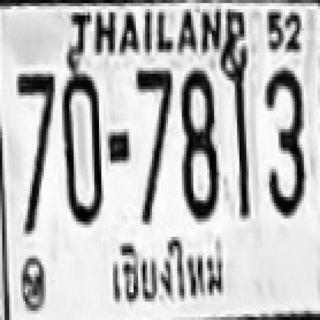N00: (60, 72, 101, 223)
N03: (262, 65, 304, 215)
N07: (16, 71, 53, 197), (134, 68, 170, 188), (16, 71, 53, 182), (134, 68, 170, 163)
N08: (180, 68, 216, 218)
P11: (99, 230, 240, 314)
